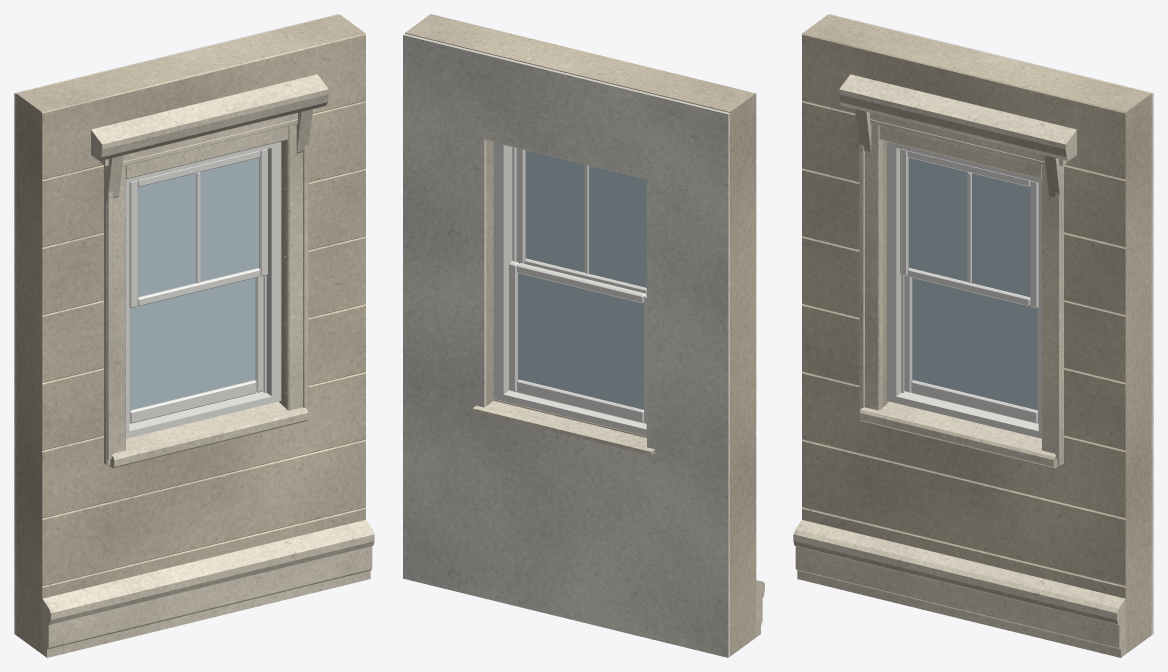
Rendered from pv_u1_window.glb.
The picture shows the model from 3 angles, left to right: view 1: azimuth 30°, elevation 25°; view 2: azimuth 150°, elevation 25°; view 3: azimuth 330°, elevation 25°; orthographic projection.
Parts seen in each view (by area): view 1: pv_u1_window_ashlar, pv_u1_window_trim, pv_u1_window_glass, pv_u1_window_sash, pv_u1_window_frame, pv_u1_window_plaster; view 2: pv_u1_window_plaster, pv_u1_window_glass, pv_u1_window_ashlar, pv_u1_window_frame, pv_u1_window_sash, pv_u1_window_trim; view 3: pv_u1_window_ashlar, pv_u1_window_trim, pv_u1_window_glass, pv_u1_window_sash, pv_u1_window_frame, pv_u1_window_plaster.
Boxes of the visible parts, box(x1,y1,x2,y2) form: pv_u1_window_ashlar: box(16, 14, 365, 653); pv_u1_window_trim: box(42, 74, 374, 657); pv_u1_window_glass: box(130, 158, 259, 410); pv_u1_window_sash: box(129, 149, 267, 423); pv_u1_window_frame: box(126, 141, 281, 438); pv_u1_window_plaster: box(14, 14, 338, 634); pv_u1_window_plaster: box(403, 33, 729, 657); pv_u1_window_glass: box(518, 150, 646, 409); pv_u1_window_ashlar: box(405, 14, 756, 656); pv_u1_window_frame: box(493, 141, 646, 436); pv_u1_window_sash: box(509, 148, 646, 423); pv_u1_window_trim: box(472, 399, 764, 637); pv_u1_window_ashlar: box(802, 14, 1151, 653); pv_u1_window_trim: box(793, 74, 1125, 657); pv_u1_window_glass: box(908, 158, 1037, 410); pv_u1_window_sash: box(900, 149, 1038, 423); pv_u1_window_frame: box(886, 141, 1041, 438); pv_u1_window_plaster: box(829, 14, 1153, 634).
Size of the model in its own units: 2 by 3.2 by 0.46.
Materials: 6 (3 with a texture image).
